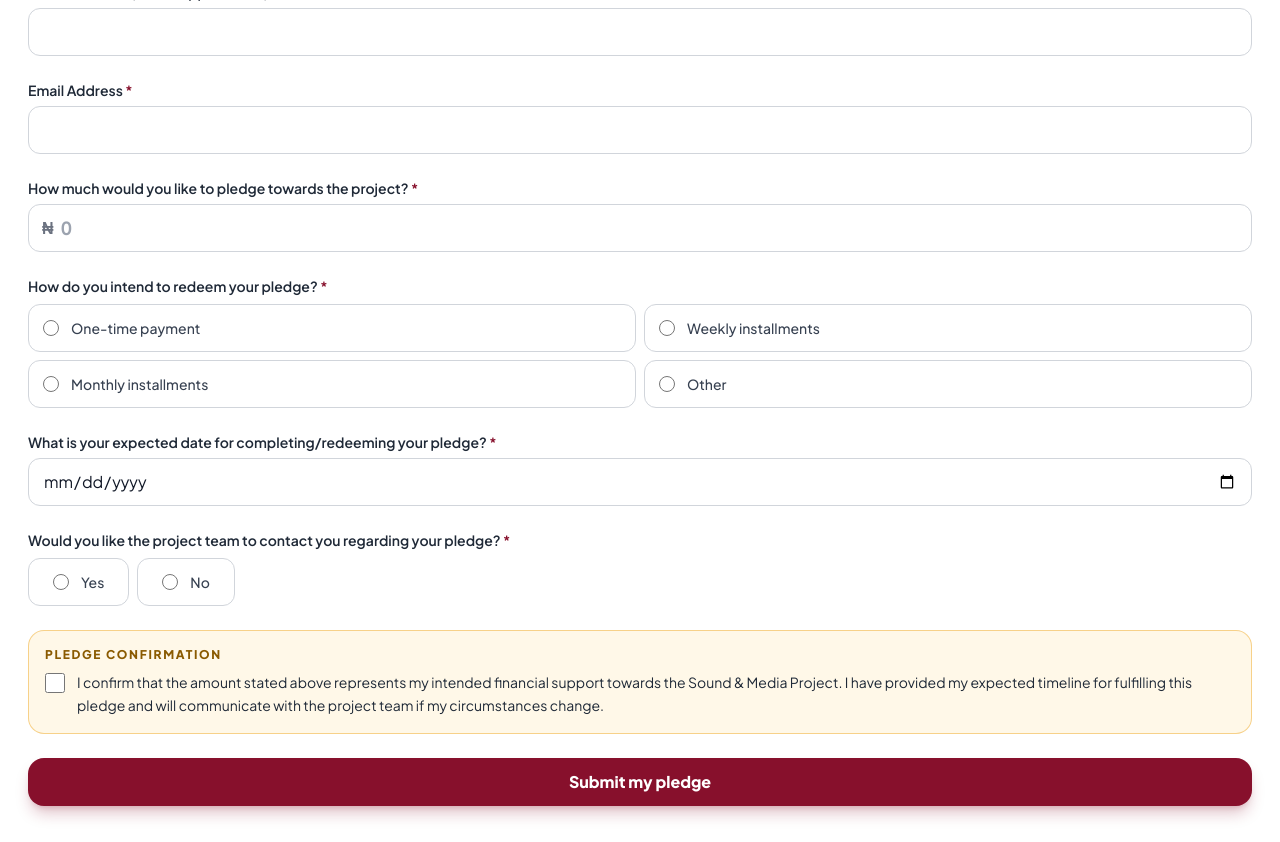
Test: Financial Pledge Form › requires the member's confirmation before submitting
The width and height of the screenshot is (1280, 842).
(page scrolled)
Click the button "Submit my pledge" at (640, 782), box [28,758,1252,806]
(page scrolled)
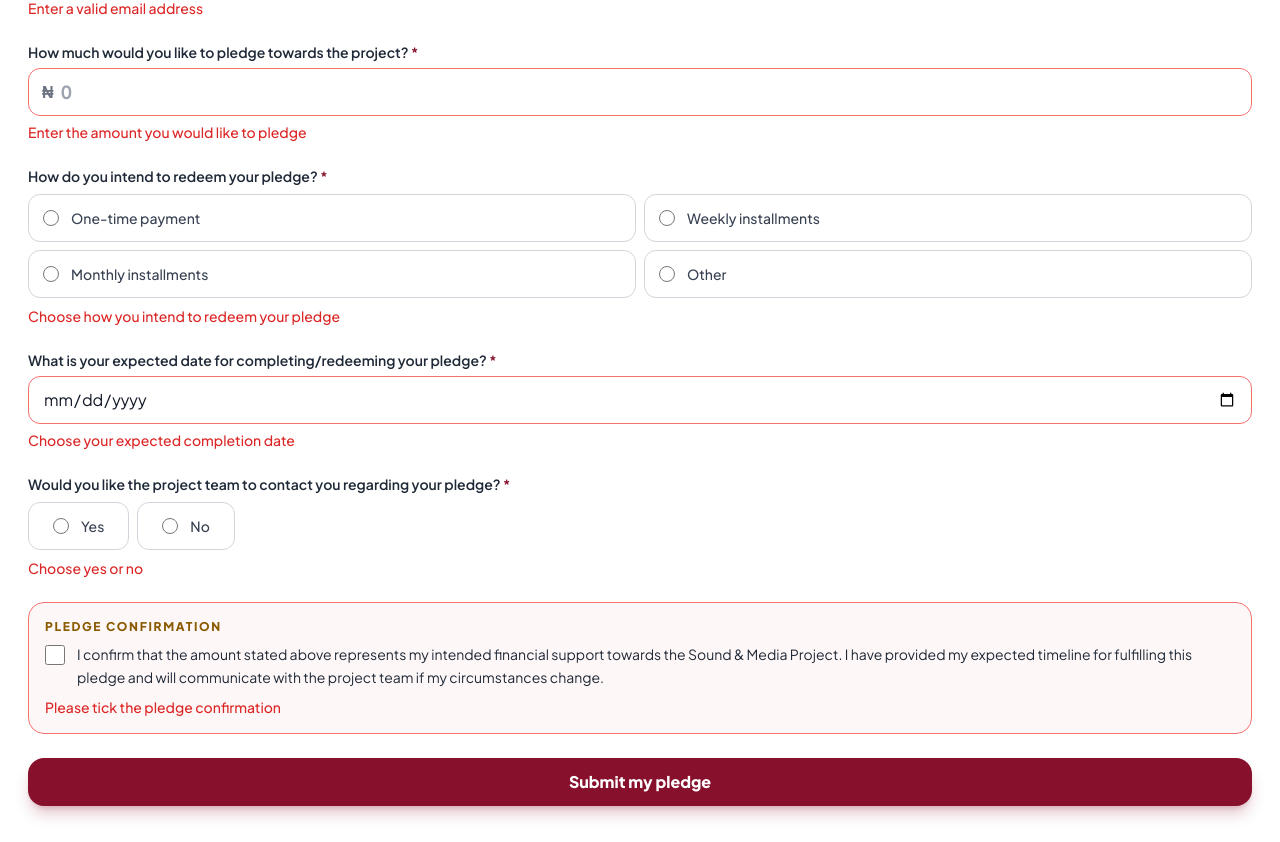
Result: the text "Please tick the pledge confirmation" is shown at [45,698,281,716]
